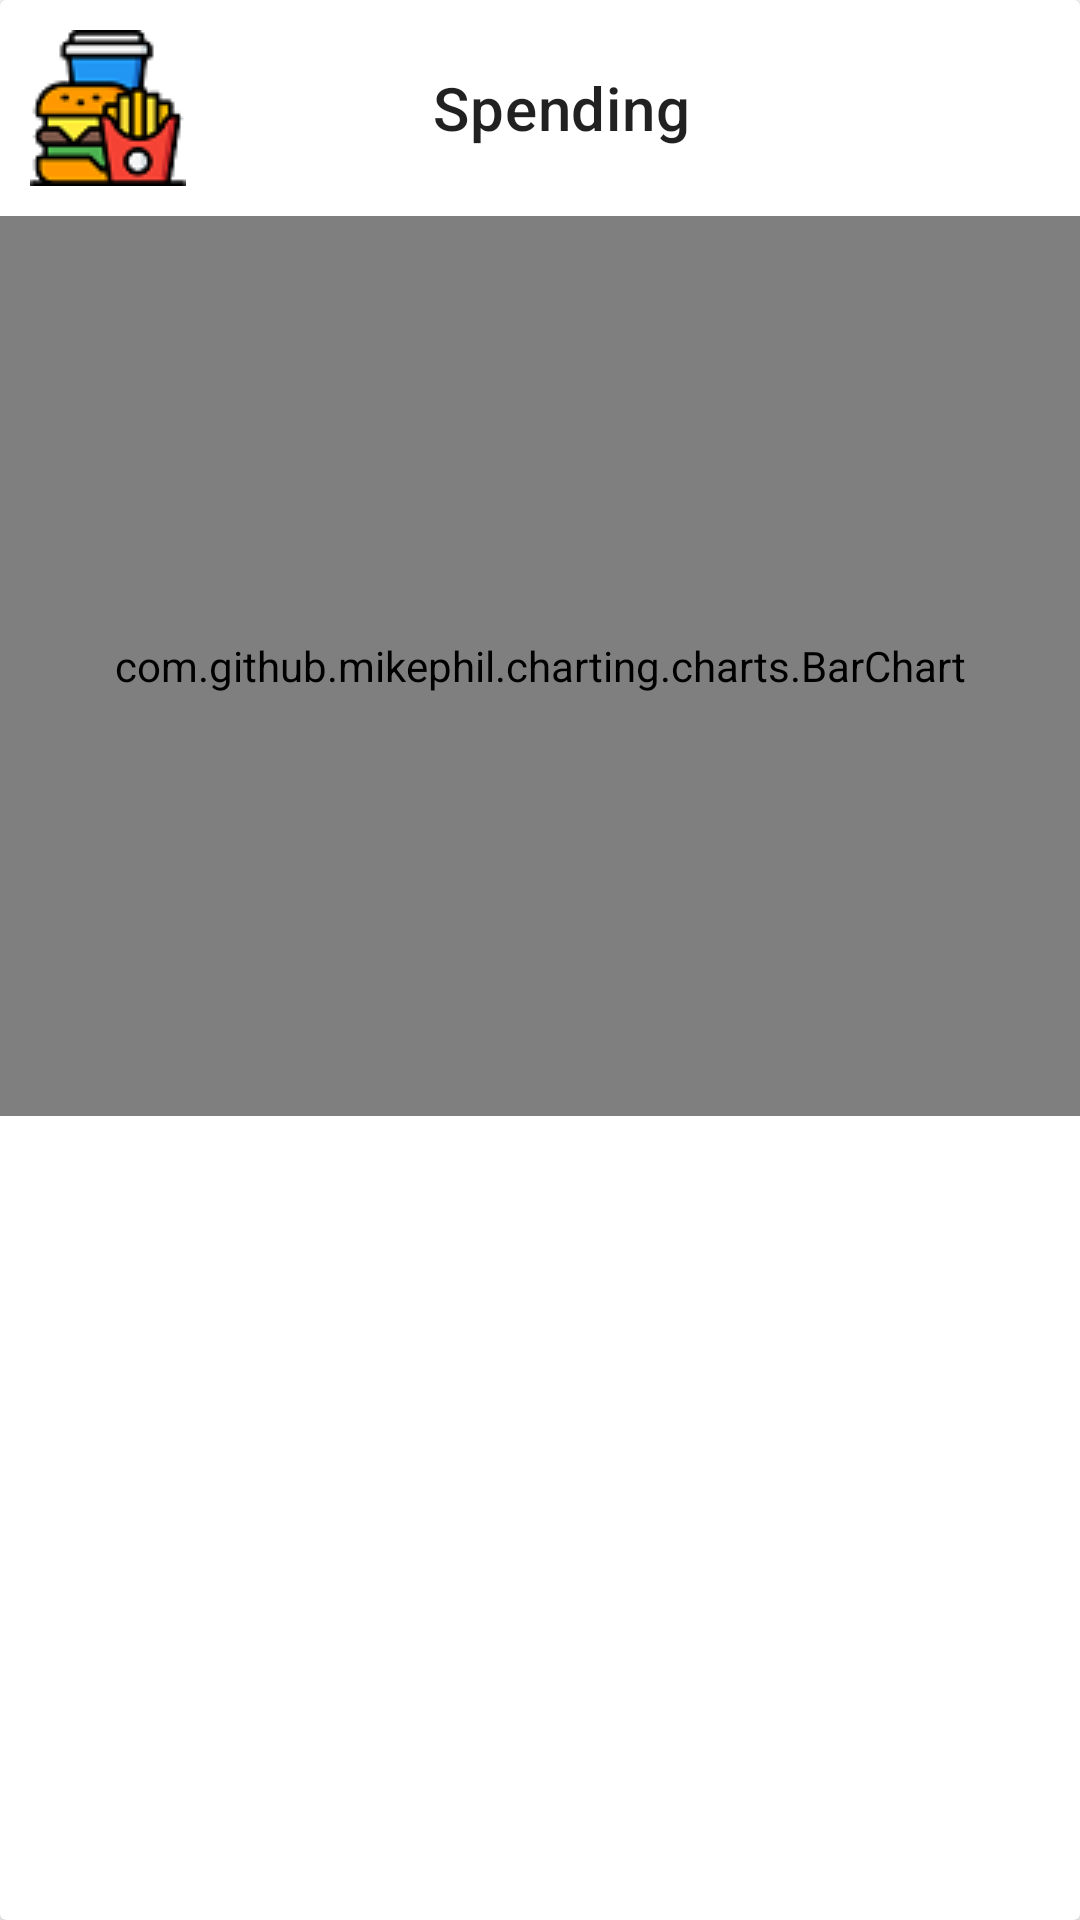

Named icons in this screenshot (1080px x 1920px) and their bounding boxes, (x1=x1, y1=y1, x2=x2, y2=y2):
Category Icon: (x1=30, y1=30, x2=186, y2=186)
